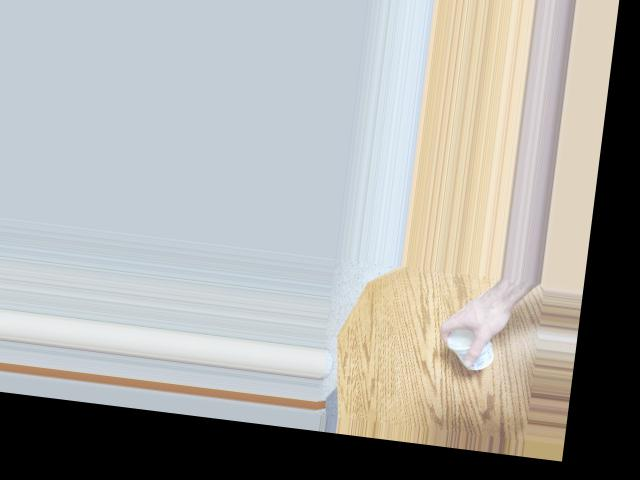cotage: (443, 318, 502, 369)
